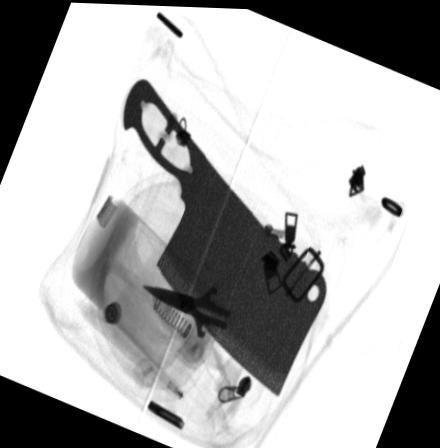Knife: (124, 76, 328, 397)
Scissors: (143, 267, 256, 369)
